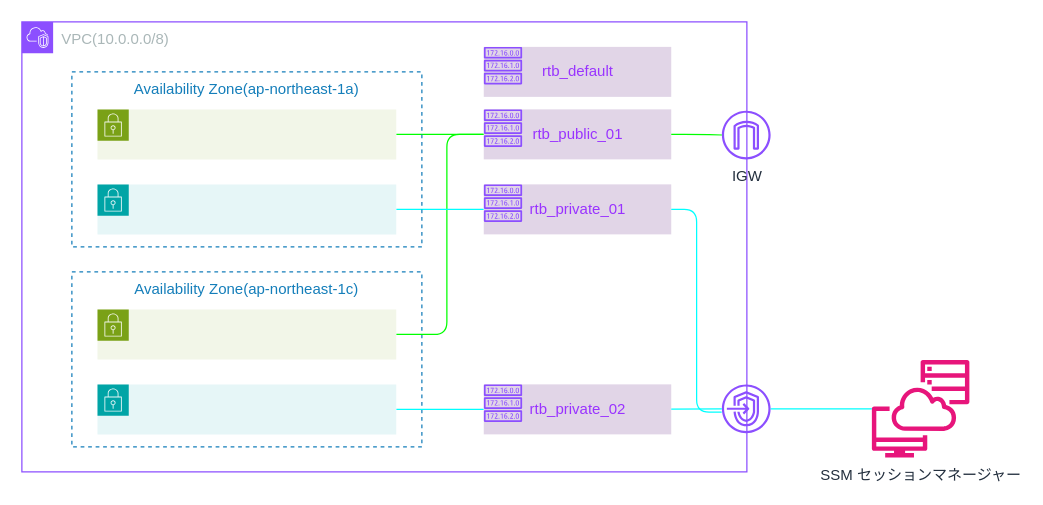
The diagram is 1043 pixels wide and 505 high, and some of its shapes have lost their labels. Here are the shapes that lost their labels. From the top down, the centre of each, then its label:
the point at 246,133: Subnet_pub_01(10.0.10.0/24)
the point at 246,208: Subnet_prvt_01(10.0.20.0/24)
the point at 246,333: Subnet_pub_01(10.0.11.0/24)
the point at 246,408: Subnet_prvt_02(10.0.21.0/24)
the point at 745,408: エンドポイント
